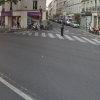Crosswalk: (13, 23, 94, 48)
